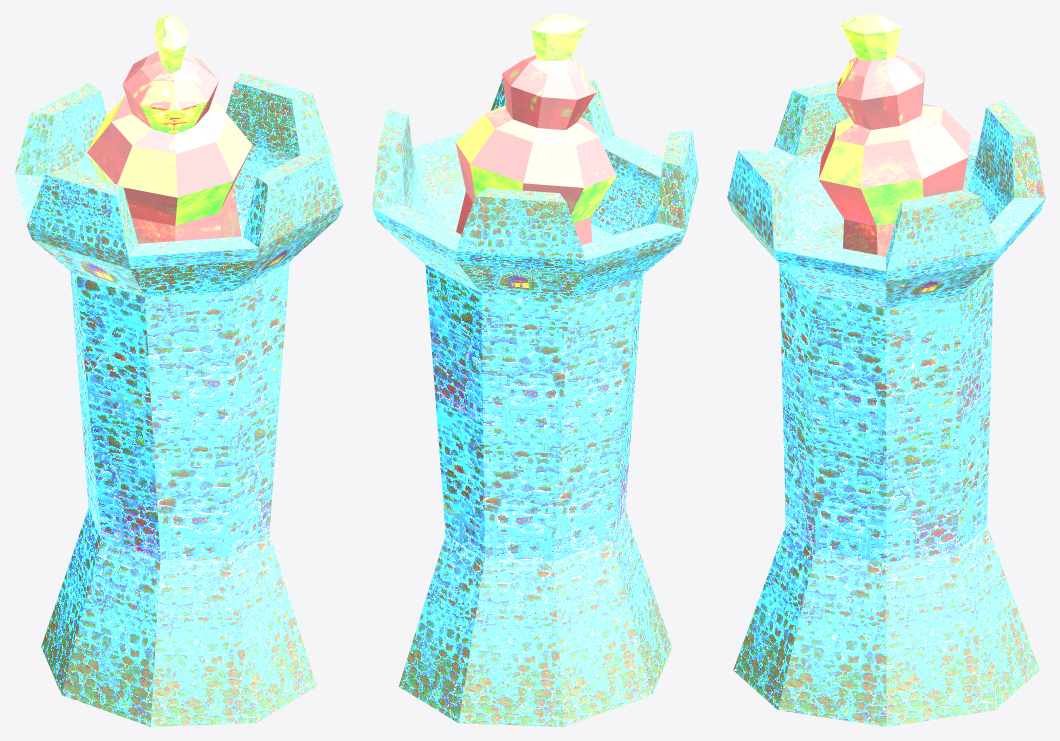
File: castle_tower_knight.glb
3 views of the same model, side by side, from view 1: azimuth 30°, elevation 25°; view 2: azimuth 150°, elevation 25°; view 3: azimuth 270°, elevation 25° (orthographic).
Visible parts, largest first — view 1: castle_tower, castle_knight; view 2: castle_tower, castle_knight; view 3: castle_tower, castle_knight.
Part boxes in pixels (x1,y1,x2,y2): castle_tower: [14, 72, 343, 726]; castle_knight: [87, 14, 252, 243]; castle_tower: [372, 78, 698, 726]; castle_knight: [455, 14, 616, 245]; castle_tower: [727, 81, 1045, 726]; castle_knight: [818, 14, 970, 256].
Size of the model in its own units: 5.44 by 11.19 by 4.99.
